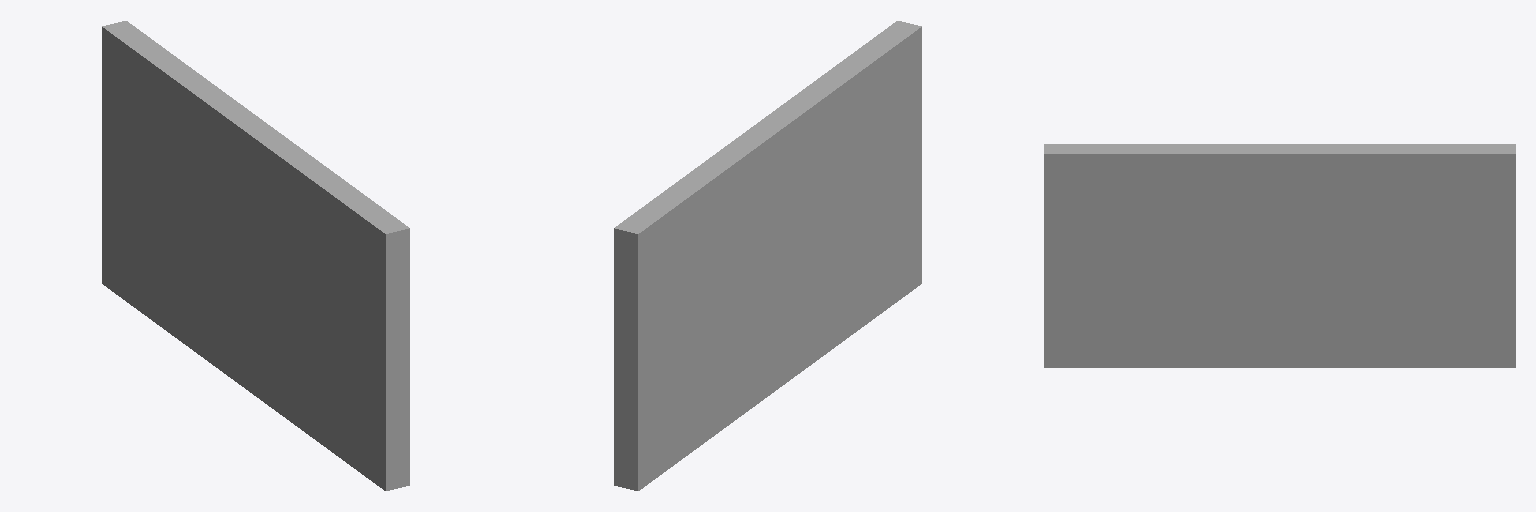
URDF robot description (Wall):
<?xml version="1.0"?>
<robot name="Wall">
    <link name="robot_base">
        <visual name="Wall">
            <origin xyz="-0.254070 -0.064155 1.064366" rpy="3.141591 3.141600 1.570839" />
            <geometry>
                <box size="8.000000 0.400000 4.000000" />
            </geometry>
            <material name="robot_base_material">
                <color rgba="0.720000 0.720000 0.720000 1.0" />
            </material>
        </visual>
    </link>
</robot>

--- Facts derived from the render (not from the file) ---
3 views of the same robot in one strip: view 1: azimuth 30°, elevation 25°; view 2: azimuth 150°, elevation 25°; view 3: azimuth 270°, elevation 25° (orthographic).
Model Wall with 1 links and 0 joints (none), rooted at robot_base, posed every joint at zero.
Visible links, largest first — view 1: robot_base; view 2: robot_base; view 3: robot_base.
Boxes of the visible links, <box> form: robot_base: <box>102,21,409,490</box>; robot_base: <box>614,21,921,490</box>; robot_base: <box>1044,144,1515,367</box>.
Size in the robot's own frame: 0.4003 by 8 by 4 metres.
Geometry: primitives only (box / cylinder / sphere), no mesh files.